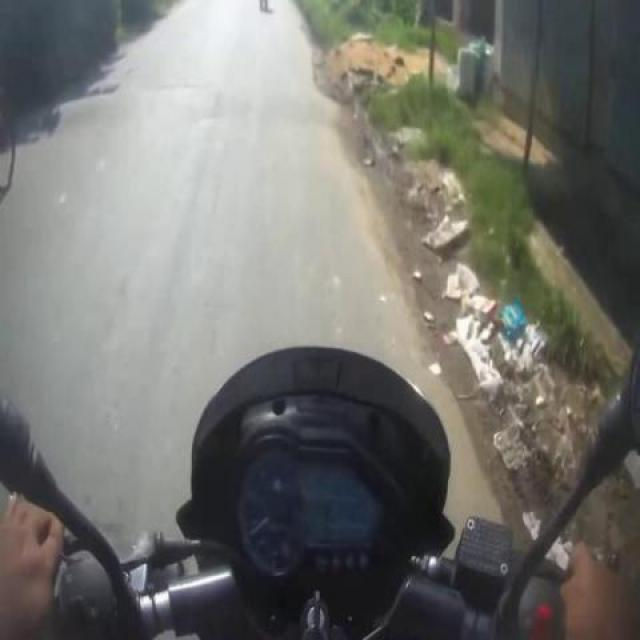Unmarked Bump: (14, 84, 364, 140)
